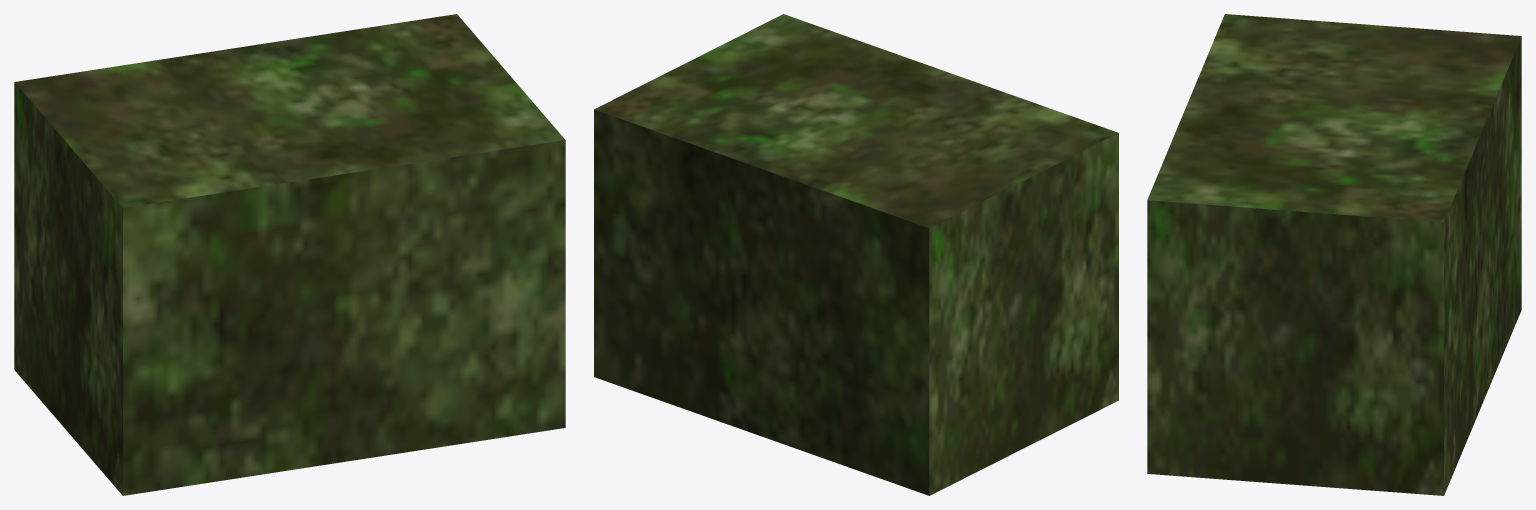
The model's file is OVERHILL_A_01_SMALL_BLOCK_05.fbx.
The picture shows the model from 3 angles, left to right: view 1: azimuth 30°, elevation 25°; view 2: azimuth 150°, elevation 25°; view 3: azimuth 270°, elevation 25°; orthographic projection. The views are drawn at different scales.
Parts seen in each view (by area): view 1: OVERHILL_A_01_SMALL_BLOCK_05; view 2: OVERHILL_A_01_SMALL_BLOCK_05; view 3: OVERHILL_A_01_SMALL_BLOCK_05.
Part boxes in pixels (x1,y1,x2,y2): OVERHILL_A_01_SMALL_BLOCK_05: [14, 14, 565, 495]; OVERHILL_A_01_SMALL_BLOCK_05: [594, 14, 1118, 495]; OVERHILL_A_01_SMALL_BLOCK_05: [1147, 14, 1521, 495].
Bounding box in the file's own units: 12944 × 7925 × 9832.
1 material, 1 textured.
